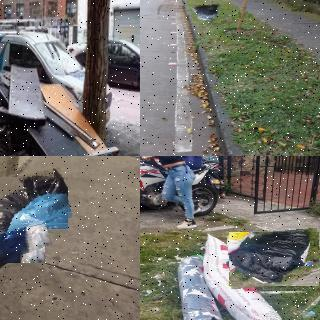Garbage: (228, 230, 320, 288), (0, 172, 70, 233), (0, 195, 48, 270), (193, 4, 221, 24)
